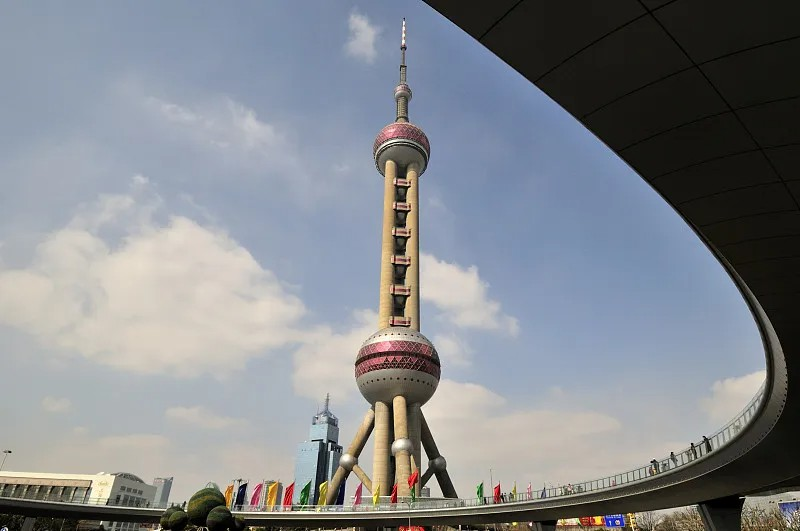Oriental: (327, 19, 458, 503)
